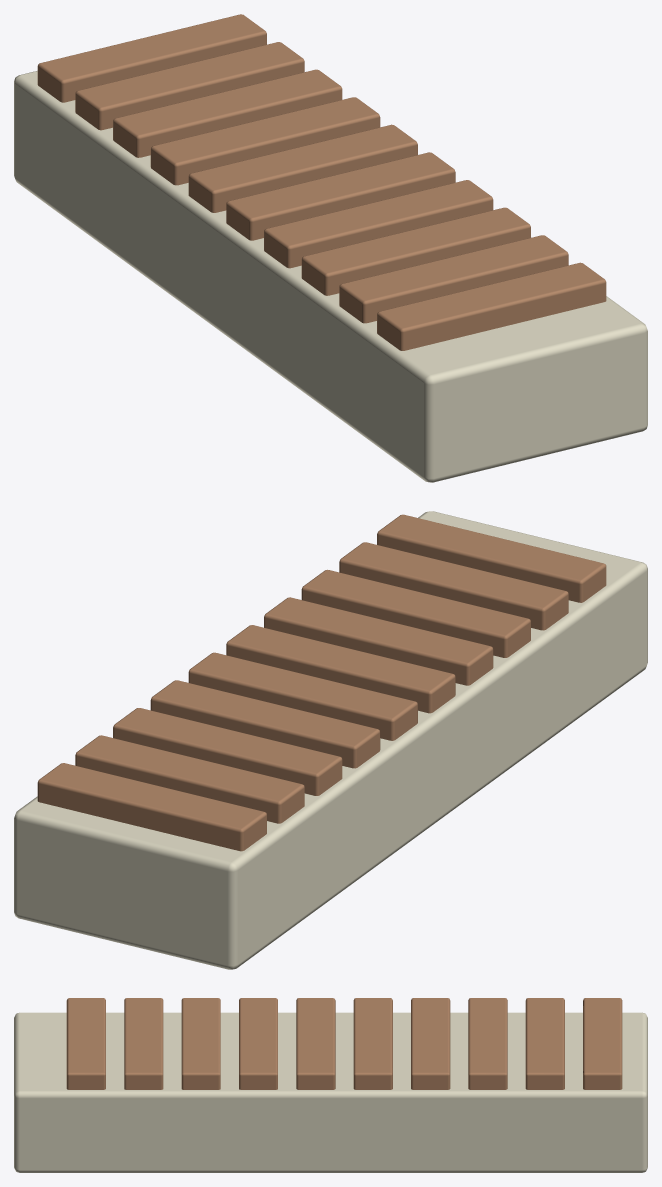
The model's file is survival-food-and-preservation-cracker-sleeve-ce154bf7__21737.glb.
3 renders of one model, top to bottom at view 1: azimuth 30°, elevation 25°; view 2: azimuth 150°, elevation 25°; view 3: azimuth 270°, elevation 25°, orthographic. The views are drawn at different scales.
Visible parts, largest first — view 1: cracker-sleeve; view 2: cracker-sleeve; view 3: cracker-sleeve.
Part boxes in pixels (x1,y1,x2,y2): cracker-sleeve: [14, 14, 647, 482]; cracker-sleeve: [14, 511, 647, 969]; cracker-sleeve: [14, 998, 647, 1172].
Size of the model in its own units: 0.065 by 0.036 by 0.21.
